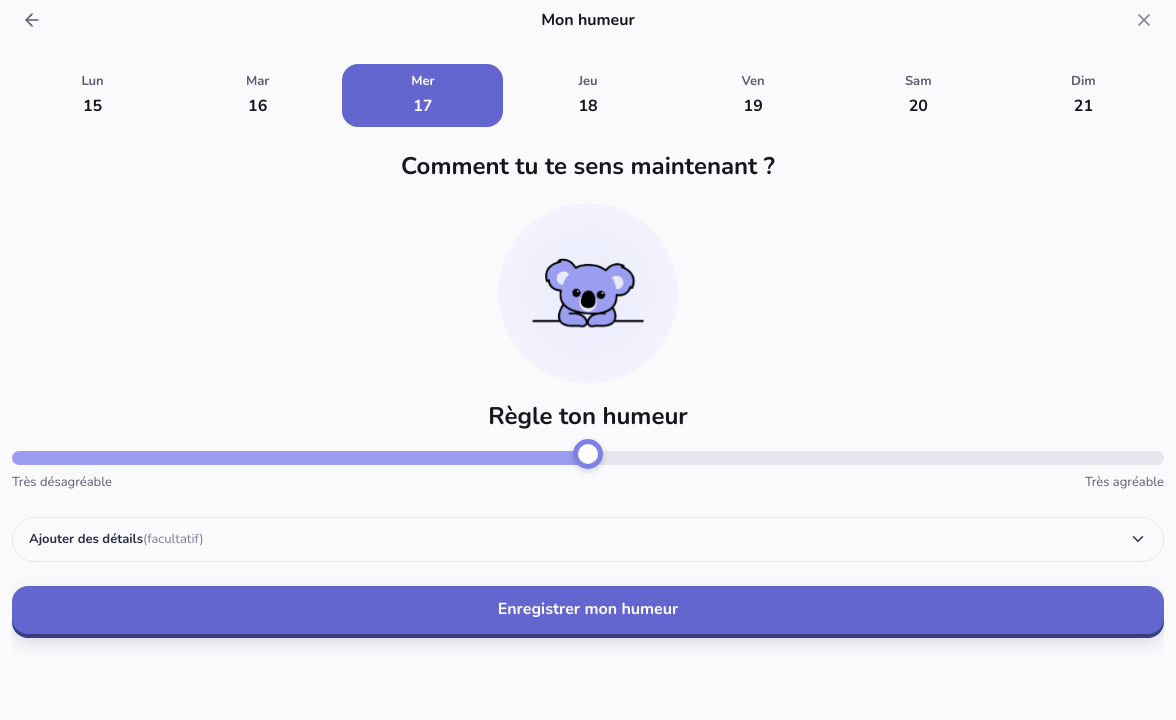
it: MoodEntryForm - curseur de valence (écran unique) › exige une valence avant d'enregistrer
Click the button "Enregistrer mon humeur" at (588, 610), box [12, 586, 1164, 634]
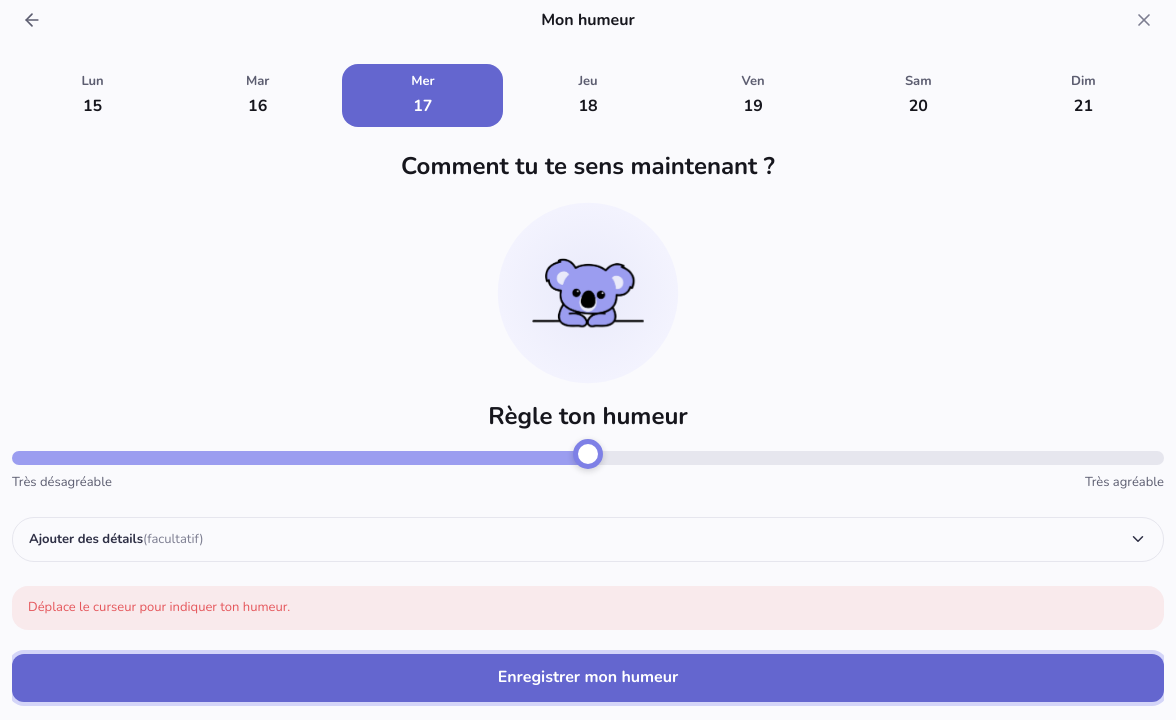
Expected: the message shows "Déplace le curseur", [28, 598, 290, 616]
